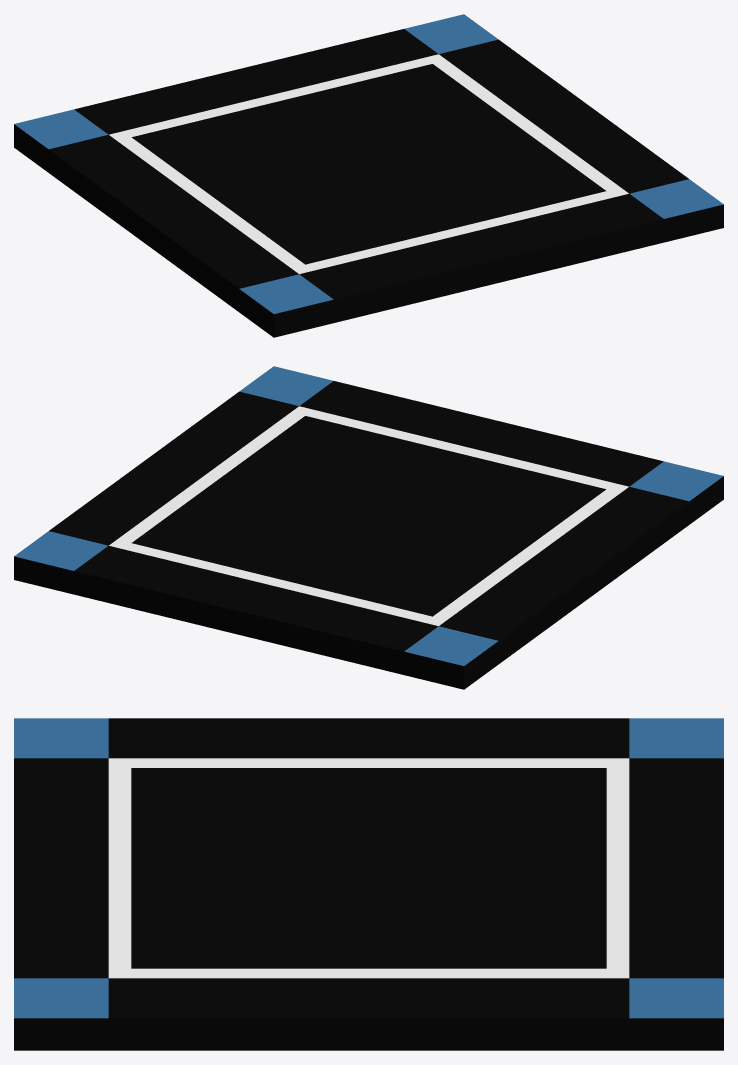
File: 4-way_road_end.fbx
3 renders of one model, top to bottom at view 1: azimuth 30°, elevation 25°; view 2: azimuth 150°, elevation 25°; view 3: azimuth 270°, elevation 25°, orthographic. The views are drawn at different scales.
Parts seen in each view (by area): view 1: Cube.001; view 2: Cube.001; view 3: Cube.001.
Part boxes in pixels (x1,y1,x2,y2): Cube.001: (14, 14, 723, 337); Cube.001: (14, 366, 723, 689); Cube.001: (14, 718, 723, 1050).
Bounding box in the file's own units: 200 × 10 × 200.
